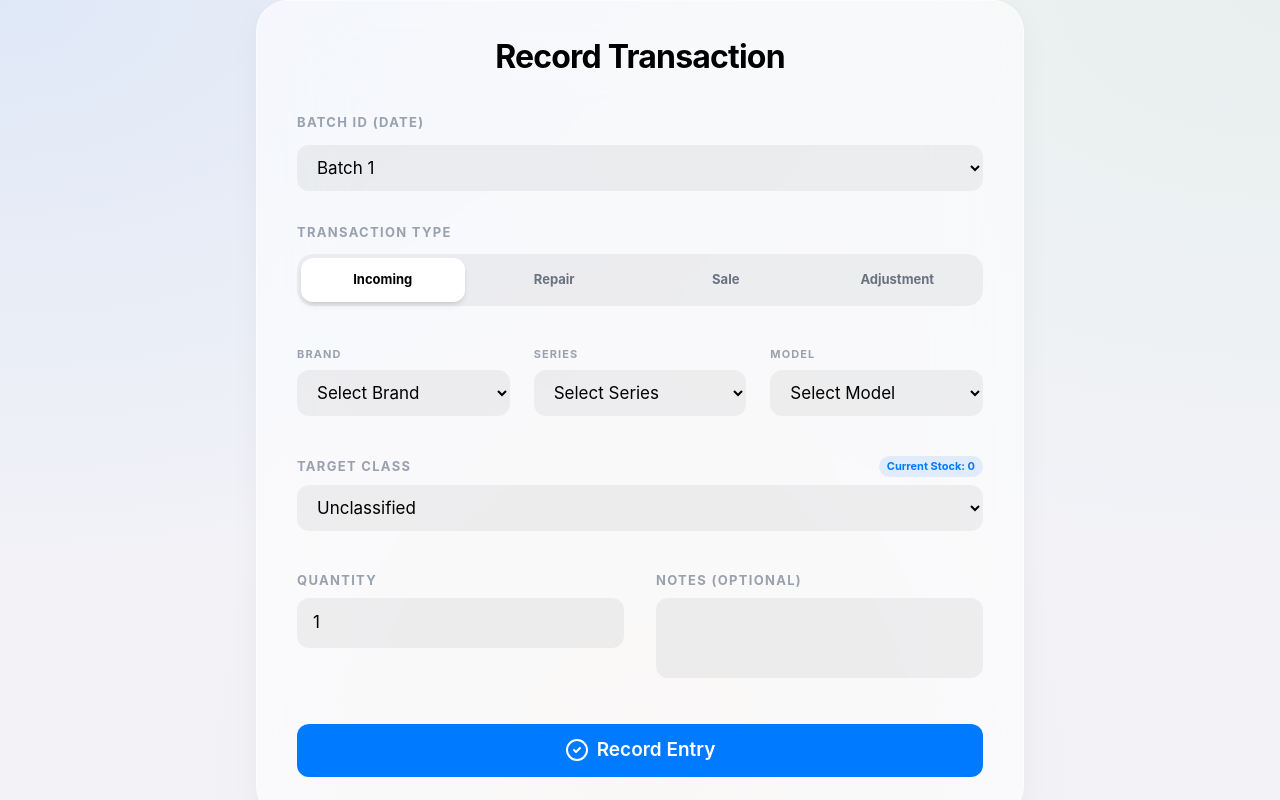
Test: AddTransaction Component › changes quantity label for ADJUSTMENT
The width and height of the screenshot is (1280, 800).
Click the radio button labelled "Adjustment" at coordinates (897, 280), box [816,258,979,302]
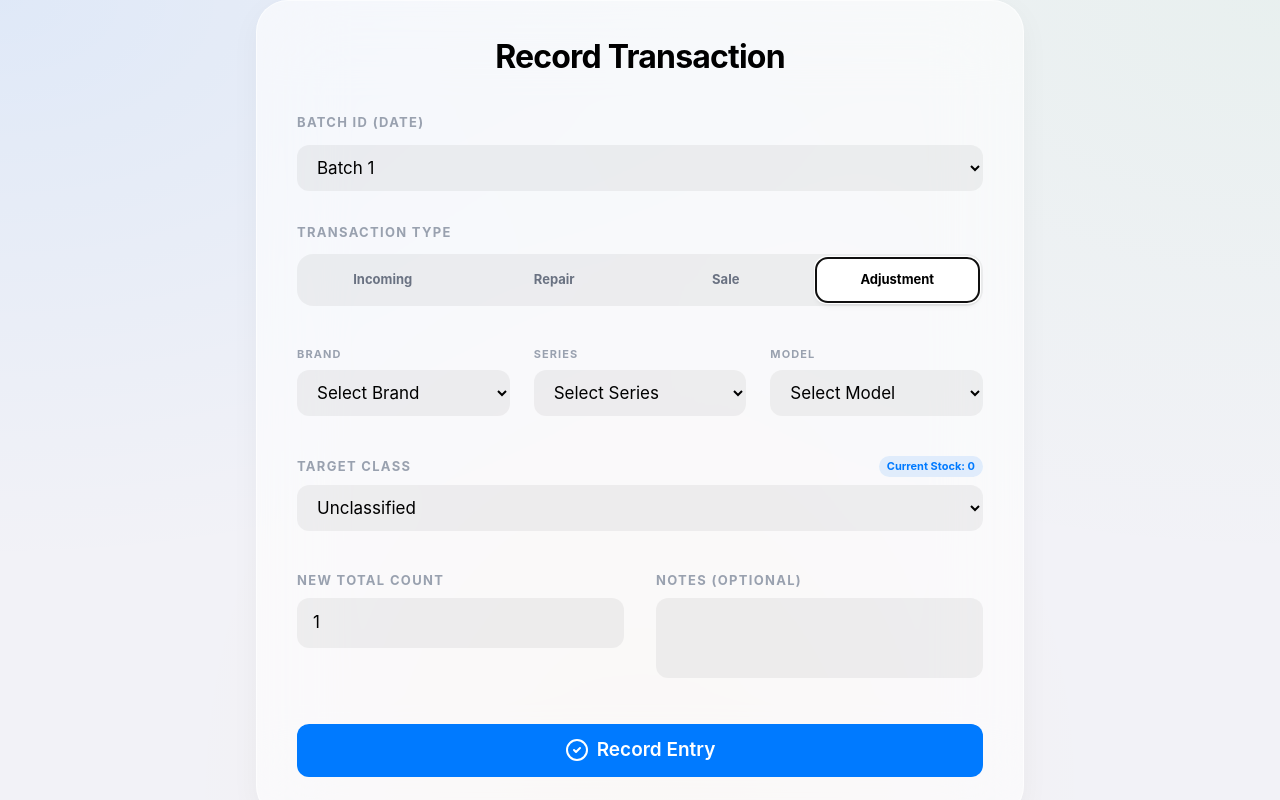
Now the text "New Total Count" is shown, box [297,572,444,588]
Now the text "Quantity" is gone
